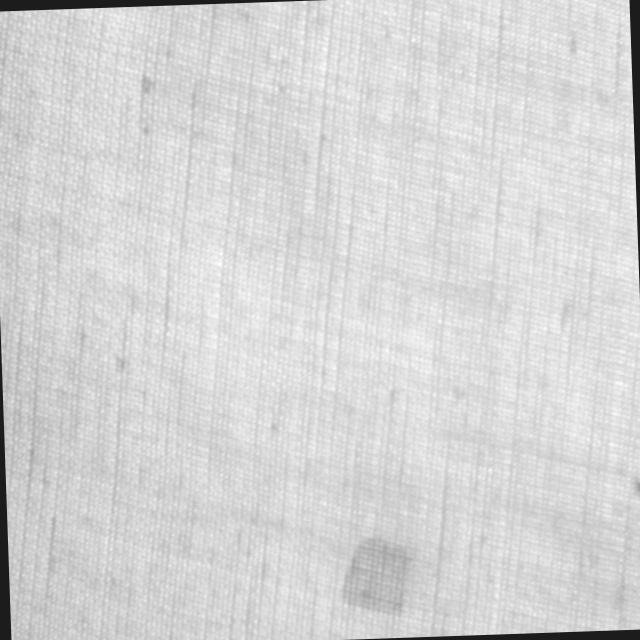oil spot: (336, 530, 414, 622)
